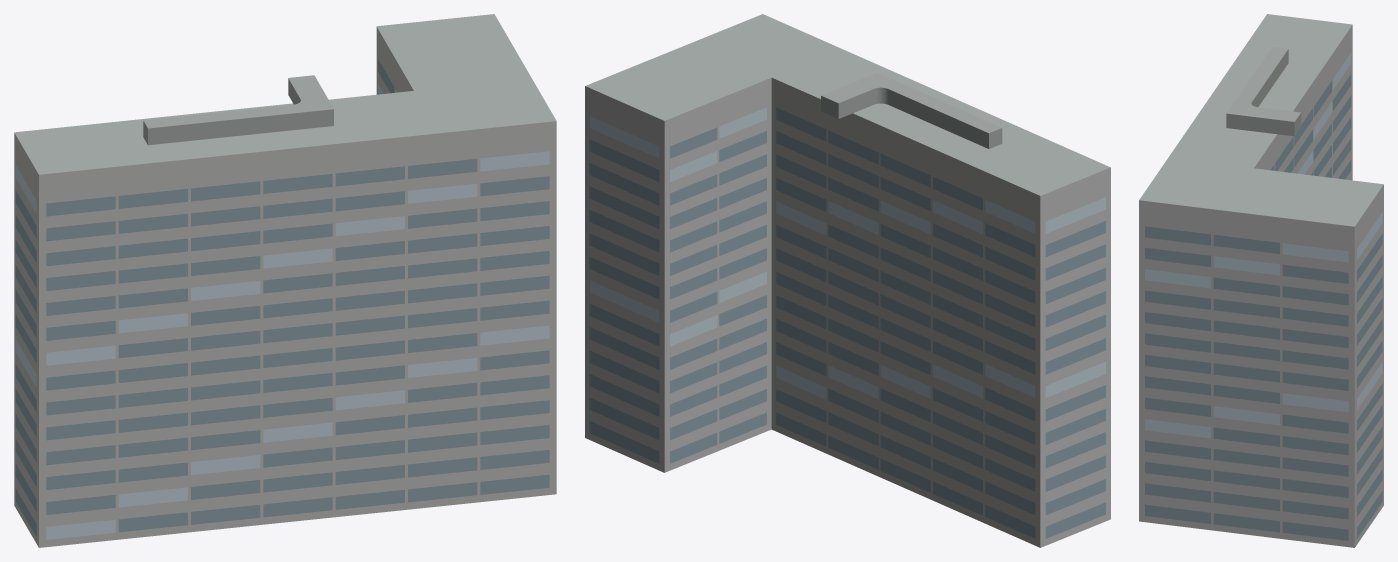
The model's file is fallback-olympic-park-foreon-422.glb.
The picture shows the model from 3 angles, left to right: view 1: azimuth 30°, elevation 25°; view 2: azimuth 150°, elevation 25°; view 3: azimuth 270°, elevation 25°; orthographic projection. The views are drawn at different scales.
Visible parts, largest first — view 1: fallback-olympic-park-foreon-422; view 2: fallback-olympic-park-foreon-422; view 3: fallback-olympic-park-foreon-422.
Boxes of the visible parts, box(x1,y1,x2,y2) form: fallback-olympic-park-foreon-422: box(14, 14, 556, 547); fallback-olympic-park-foreon-422: box(585, 14, 1110, 547); fallback-olympic-park-foreon-422: box(1139, 14, 1383, 547).
Size of the model in its own units: 64.98 by 47.81 by 31.61.
